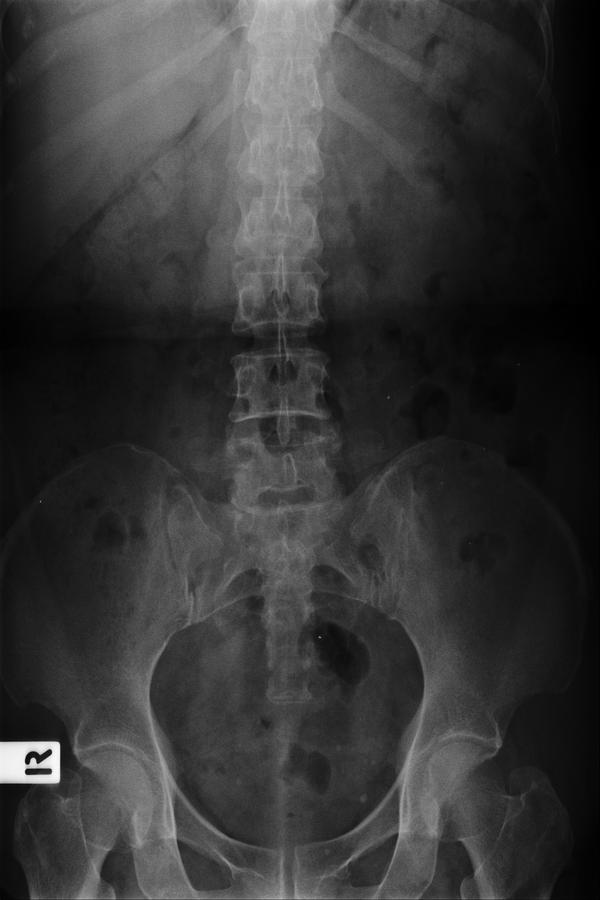not lumbar scoliosis: (227, 179, 334, 522)
